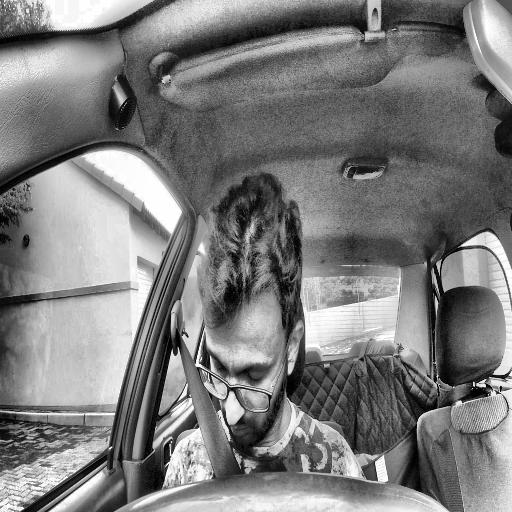drowsy: (195, 171, 305, 452)
